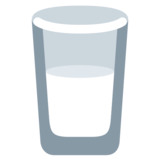glass of milk: (43, 16, 113, 136)
